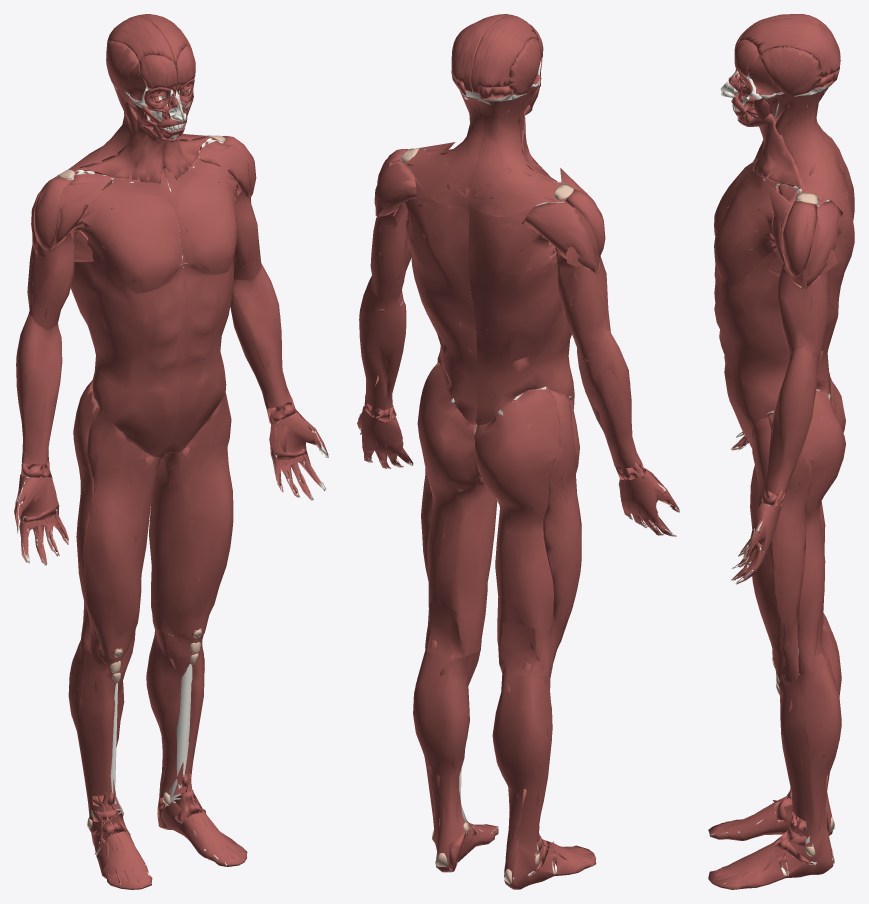
The model's file is layered-figure-preview.glb.
3 views of the same model, side by side, from view 1: azimuth 30°, elevation 25°; view 2: azimuth 150°, elevation 25°; view 3: azimuth 270°, elevation 25° (orthographic). The views are drawn at different scales.
Visible parts, largest first — view 1: Investing_abdominal_fascia.r, Fascia_lata.l, Fascia_lata.r, Pectoral_fascia.r, Crural_fascia.r, Crural_fascia.l, Investing_abdominal_fascia.l, Pectoral_fascia.l, Antebrachial_fascia.r, Antebrachial_fascia.l, Brachial_fascia.r, Iliotibial_tract.r (+16 smaller); view 2: Investing_abdominal_fascia.r, Fascia_lata.r, Fascia_lata.l, Crural_fascia.r, Investing_abdominal_fascia.l, Crural_fascia.l, Superficial_investing_cervical_fascia.r, Iliotibial_tract.r, Antebrachial_fascia.r, Antebrachial_fascia.l, Superficial_investing_cervical_fascia.l, Brachial_fascia.r (+13 smaller); view 3: Investing_abdominal_fascia.l, Crural_fascia.l, Fascia_lata.l, Iliotibial_tract.l, Superficial_investing_cervical_fascia.l, Pectoral_fascia.l, Antebrachial_fascia.l, Brachial_fascia.l, Epicranial_aponeurosis.l, Crural_fascia.r, Temporoparietalis_muscle.l, Platysma.l (+16 smaller).
Part boxes in pixels (left/top/right/bottom): Investing_abdominal_fascia.r: left=70, top=239, right=185, bottom=457; Fascia_lata.l: left=149, top=392, right=233, bottom=638; Fascia_lata.r: left=73, top=380, right=165, bottom=658; Pectoral_fascia.r: left=78, top=178, right=182, bottom=294; Crural_fascia.r: left=68, top=641, right=152, bottom=889; Crural_fascia.l: left=146, top=622, right=247, bottom=866; Investing_abdominal_fascia.l: left=167, top=262, right=233, bottom=452; Pectoral_fascia.l: left=168, top=158, right=238, bottom=274; Antebrachial_fascia.r: left=16, top=315, right=62, bottom=464; Antebrachial_fascia.l: left=230, top=263, right=291, bottom=408; Brachial_fascia.r: left=27, top=232, right=75, bottom=329; Iliotibial_tract.r: left=73, top=380, right=107, bottom=668; Investing_abdominal_fascia.r: left=468, top=206, right=574, bottom=425; Fascia_lata.r: left=474, top=389, right=581, bottom=677; Fascia_lata.l: left=417, top=363, right=497, bottom=657; Crural_fascia.r: left=492, top=666, right=596, bottom=889; Investing_abdominal_fascia.l: left=401, top=177, right=477, bottom=424; Crural_fascia.l: left=413, top=649, right=498, bottom=872; Superficial_investing_cervical_fascia.r: left=469, top=86, right=566, bottom=216; Iliotibial_tract.r: left=543, top=390, right=581, bottom=675; Antebrachial_fascia.r: left=575, top=330, right=641, bottom=468; Antebrachial_fascia.l: left=359, top=275, right=406, bottom=410; Superficial_investing_cervical_fascia.l: left=399, top=90, right=483, bottom=208; Brachial_fascia.r: left=556, top=252, right=610, bottom=347; Investing_abdominal_fascia.l: left=714, top=195, right=854, bottom=448; Crural_fascia.l: left=708, top=656, right=841, bottom=889; Fascia_lata.l: left=750, top=390, right=845, bottom=674; Iliotibial_tract.l: left=768, top=412, right=812, bottom=682; Superficial_investing_cervical_fascia.l: left=752, top=83, right=848, bottom=205; Pectoral_fascia.l: left=714, top=171, right=776, bottom=285; Antebrachial_fascia.l: left=764, top=348, right=820, bottom=493; Brachial_fascia.l: left=778, top=258, right=830, bottom=357; Epicranial_aponeurosis.l: left=738, top=18, right=840, bottom=77; Crural_fascia.r: left=708, top=616, right=841, bottom=840; Temporoparietalis_muscle.l: left=759, top=46, right=821, bottom=95; Platysma.l: left=738, top=113, right=804, bottom=188.
Bounding box in the file's own units: 0.6692 × 1.7 × 0.269.
